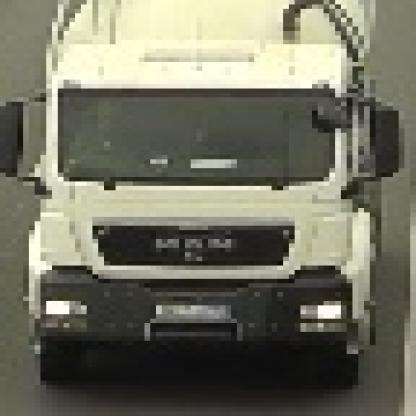truck: (1, 1, 400, 386)
